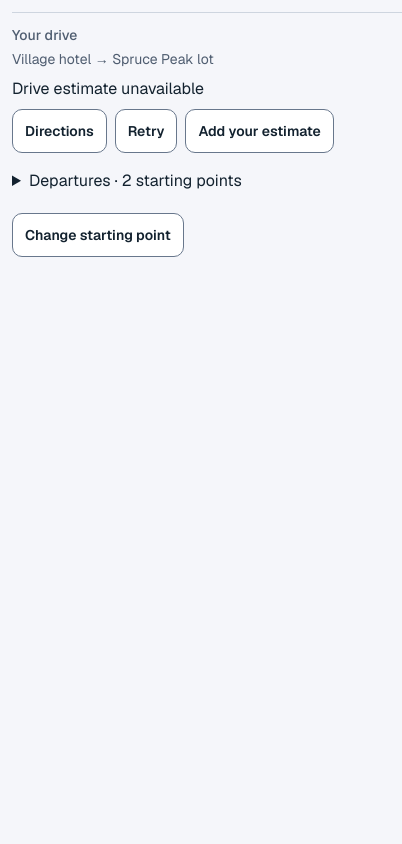
Test: Your departure on the day (#333) › lets an organizer leaving from another stay show the crew's drive and manage its estimate
This screenshot has width=402, height=844.
Expected: the element "Your drive" shows "Village hotel → Spruce Peak lot", [12,12,401,257]
Expected: the button "Edit your estimate" is not shown
Click the heading "Departures · 2 starting points" at (135, 180), box [29,170,242,191]
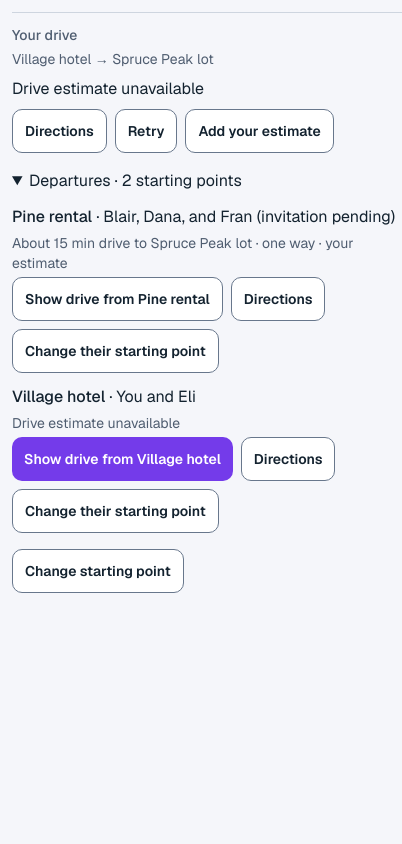
Click the button "Show drive from Pine rental" at (117, 299), box [12,277,223,321]
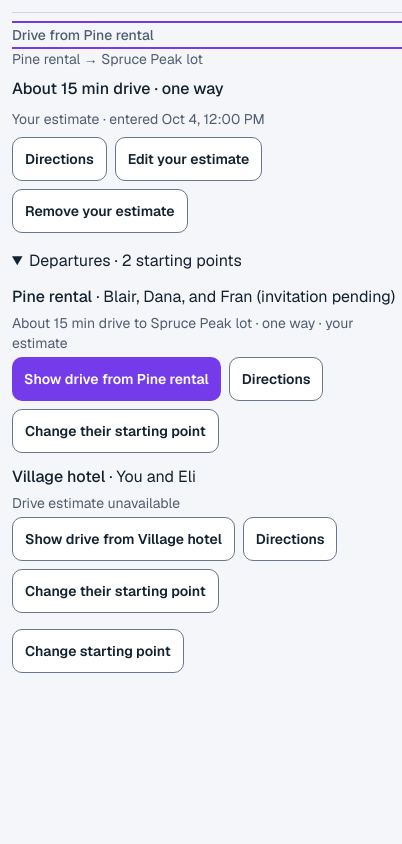
Now the text "Drive from Pine rental" is shown, box [12,26,154,44]
Now the text "Pine rental → Spruce Peak lot" is shown, box [12,50,203,68]
Now the button "Edit your estimate" is shown, box [115,137,262,181]
